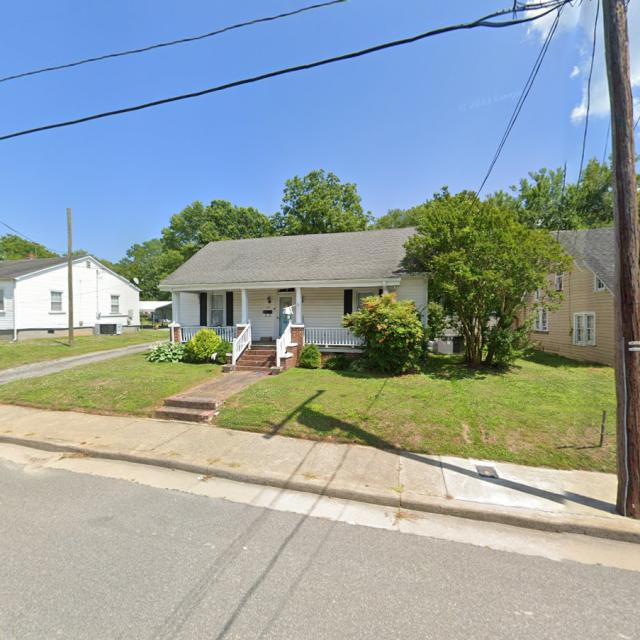House: (158, 223, 435, 374), (511, 225, 640, 366), (0, 254, 143, 340)
